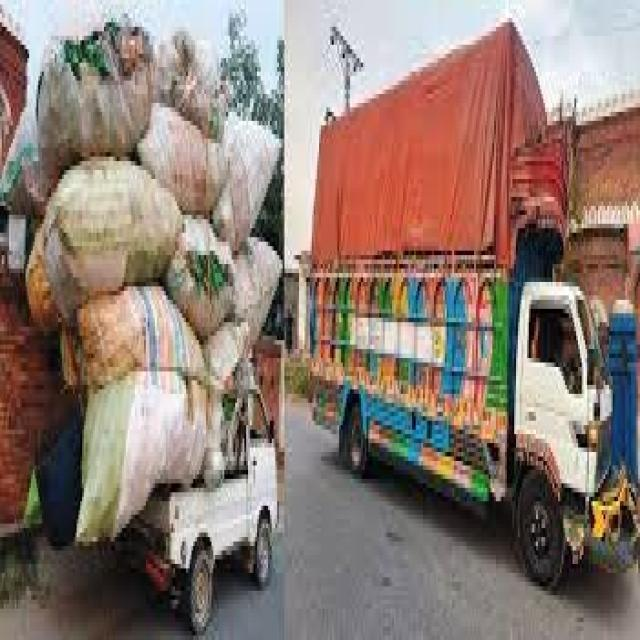covered: (308, 18, 640, 582)
uncovered: (25, 12, 278, 613)
